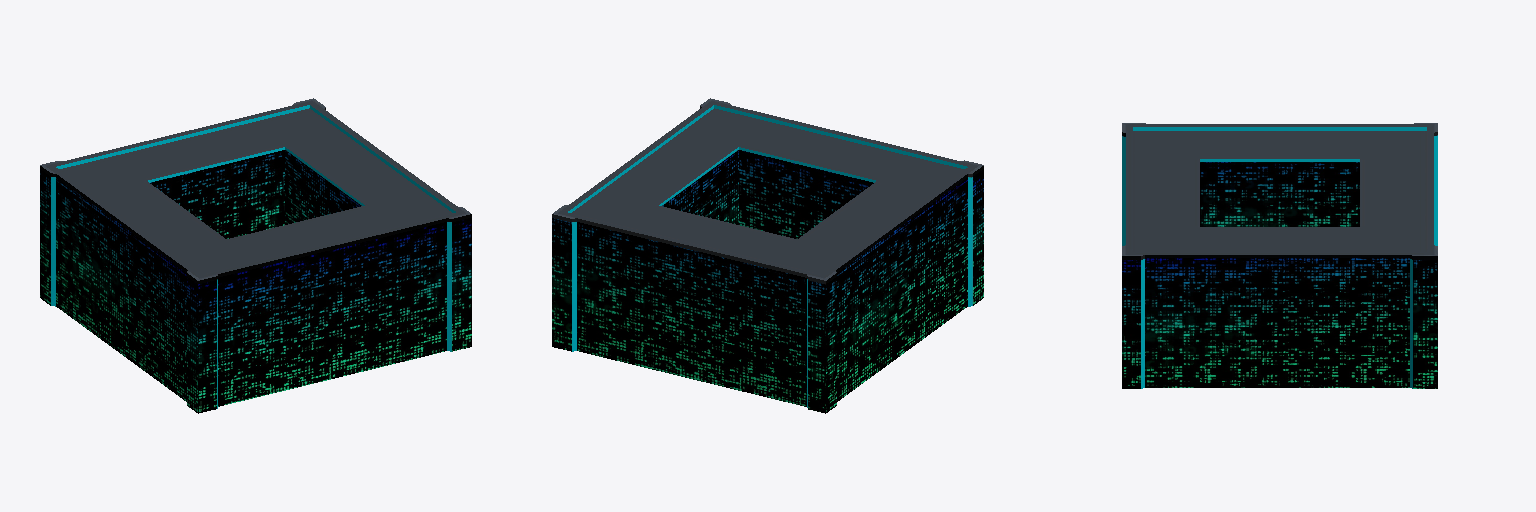
3 views of the same model, side by side, from view 1: azimuth 30°, elevation 25°; view 2: azimuth 150°, elevation 25°; view 3: azimuth 270°, elevation 25° (orthographic).
Parts seen in each view (by area): view 1: Cube.005_Cube.008; view 2: Cube.005_Cube.008; view 3: Cube.005_Cube.008.
Part boxes in pixels (x1,y1,x2,y2): Cube.005_Cube.008: (40, 98, 471, 413); Cube.005_Cube.008: (552, 98, 983, 413); Cube.005_Cube.008: (1122, 123, 1437, 388).
Size of the model in its own units: 133 by 61.65 by 133.
3 materials, 1 textured.